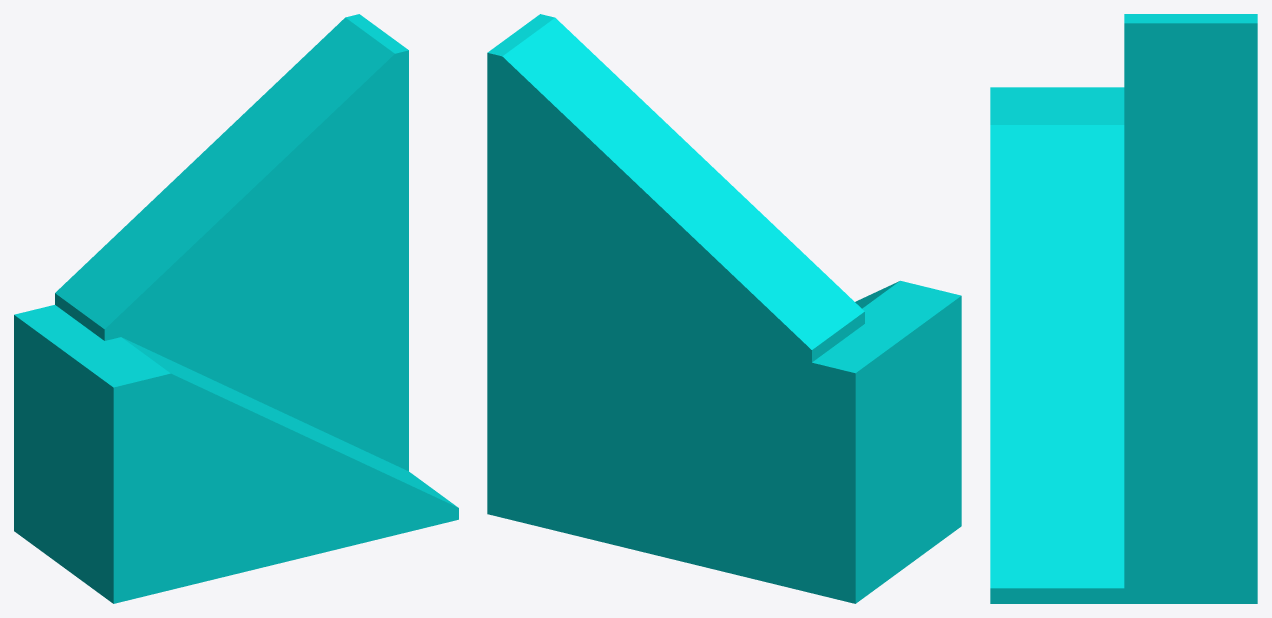
File: SM_Bld_Stairs_L_03_Collision.fbx
3 renders of one model, left to right at view 1: azimuth 30°, elevation 25°; view 2: azimuth 150°, elevation 25°; view 3: azimuth 270°, elevation 25°, orthographic. The views are drawn at different scales.
Visible parts, largest first — view 1: SM_Bld_Stairs_L_03_Collision; view 2: SM_Bld_Stairs_L_03_Collision; view 3: SM_Bld_Stairs_L_03_Collision.
Boxes of the visible parts, x1=… form: SM_Bld_Stairs_L_03_Collision: x1=14, y1=14, x2=458, y2=603; SM_Bld_Stairs_L_03_Collision: x1=487, y1=14, x2=961, y2=603; SM_Bld_Stairs_L_03_Collision: x1=990, y1=14, x2=1257, y2=603.
Bounding box in the file's own units: 501 × 600 × 250.
